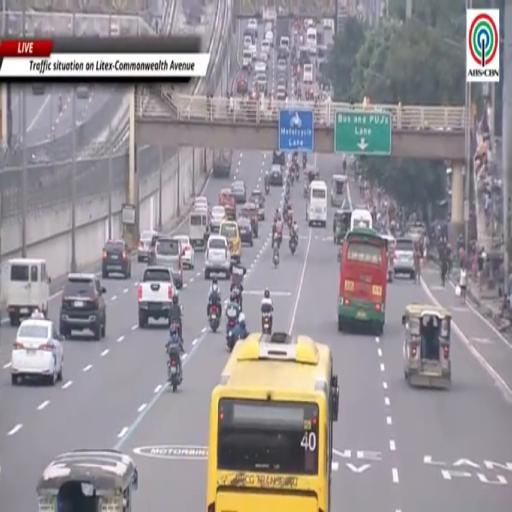bus: (207, 332, 339, 511), (338, 229, 387, 334), (307, 181, 327, 227), (351, 208, 372, 230)
car: (11, 312, 63, 385), (60, 274, 106, 341), (153, 236, 183, 290), (204, 235, 231, 279), (102, 239, 131, 278), (394, 237, 415, 279), (174, 235, 194, 269), (239, 202, 258, 237), (138, 231, 157, 262), (219, 188, 236, 219), (237, 215, 253, 246), (148, 233, 162, 264), (250, 189, 264, 220), (210, 206, 226, 233), (231, 181, 246, 203), (268, 164, 282, 185), (255, 73, 267, 94), (236, 74, 248, 93), (76, 85, 91, 99), (272, 151, 285, 166), (247, 19, 258, 35), (254, 60, 267, 73), (194, 197, 208, 209), (276, 72, 287, 87), (276, 86, 286, 101), (276, 76, 287, 89), (259, 53, 268, 68), (277, 58, 287, 71), (265, 30, 273, 46), (261, 40, 270, 54), (249, 45, 257, 60), (243, 36, 252, 49), (278, 47, 288, 58)
jeepney: (36, 450, 138, 511), (402, 304, 451, 389), (189, 205, 209, 250), (381, 234, 396, 282), (333, 208, 351, 245), (331, 174, 347, 206)
motorcycle: (168, 350, 182, 392), (209, 304, 220, 332), (233, 287, 242, 310), (262, 313, 272, 333), (170, 322, 182, 338), (227, 330, 236, 351), (289, 236, 296, 254), (228, 317, 236, 331), (273, 250, 279, 268), (276, 231, 282, 248), (287, 212, 293, 229), (295, 164, 300, 182), (264, 182, 270, 196), (337, 247, 342, 262), (304, 184, 308, 198)
truck: (138, 266, 178, 328), (213, 149, 232, 178)
